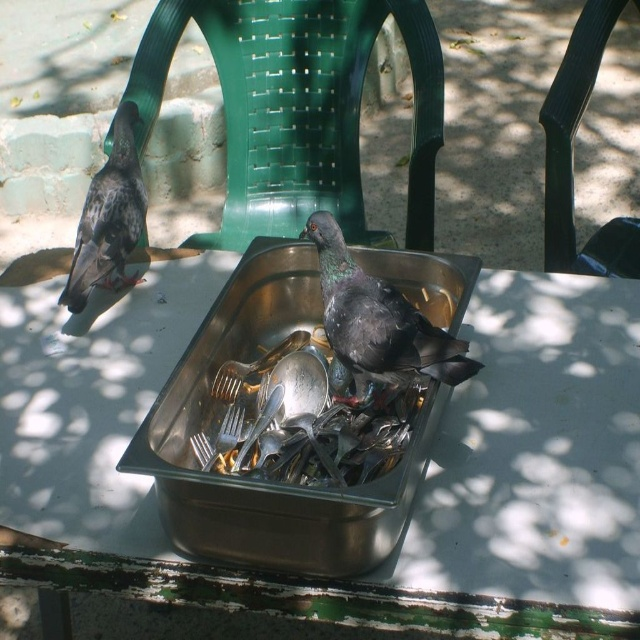Duck: (292, 209, 476, 426), (56, 93, 154, 319)
